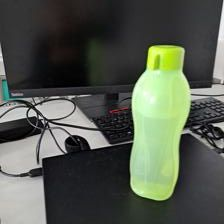bottle: (129, 42, 192, 205)
